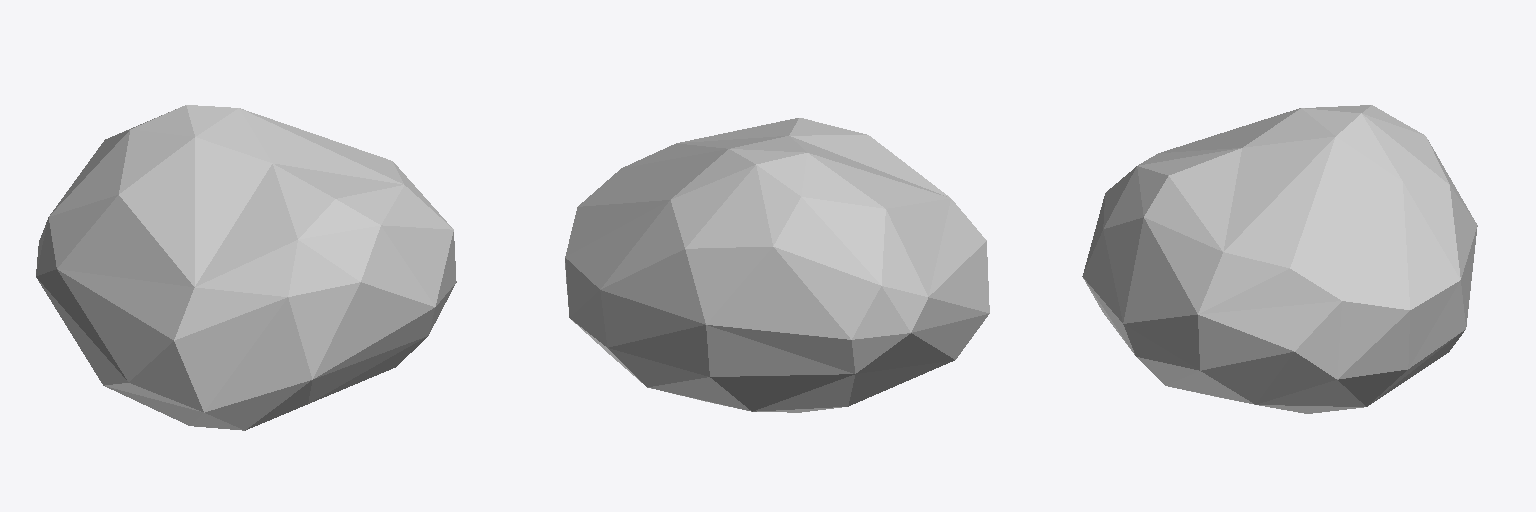
File: Rock2.obj
3 views of the same model, side by side, from view 1: azimuth 30°, elevation 25°; view 2: azimuth 150°, elevation 25°; view 3: azimuth 270°, elevation 25° (orthographic).
Parts seen in each view (by area): view 1: Sphere; view 2: Sphere; view 3: Sphere.
Boxes of the visible parts, box(x1,y1,x2,y2) form: Sphere: box(36, 105, 456, 430); Sphere: box(565, 118, 989, 412); Sphere: box(1082, 105, 1477, 413).
Bounding box in the file's own units: 0.8146 × 0.5502 × 0.7673.